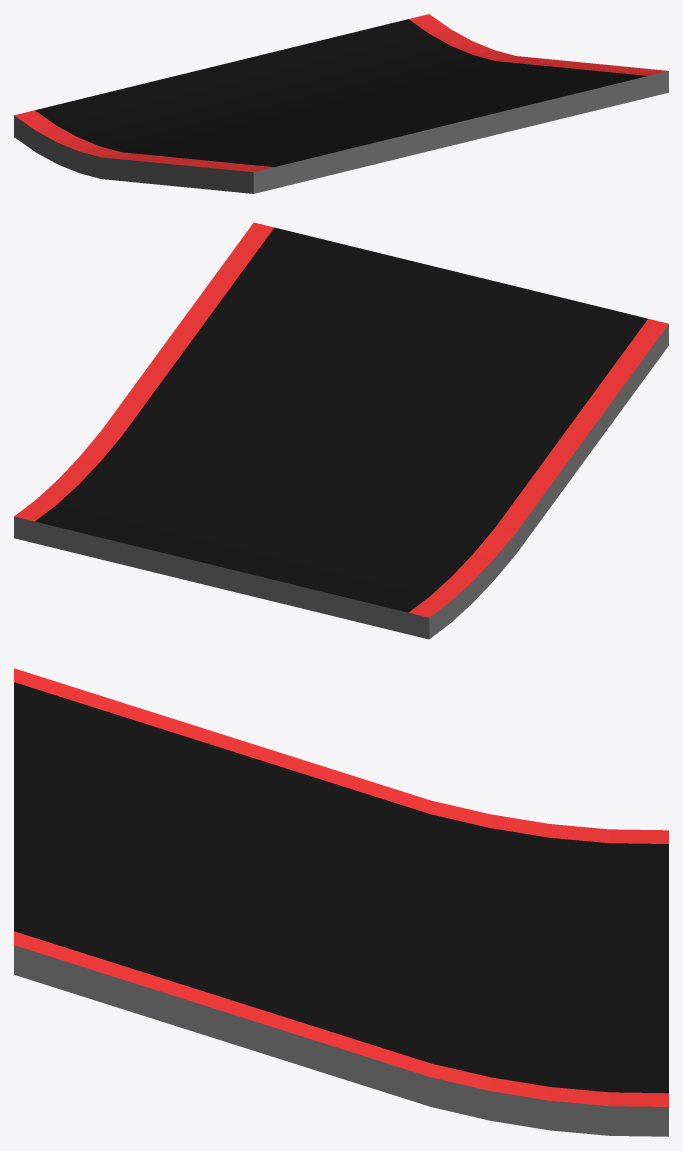
The model's file is Streckenmodul_-_Rampe_Flach_Unten.fbx.
3 views of the same model, one above another, from view 1: azimuth 30°, elevation 25°; view 2: azimuth 150°, elevation 25°; view 3: azimuth 270°, elevation 25° (orthographic). The views are drawn at different scales.
Visible parts, largest first — view 1: Streckenmodul - Rampe_Flach_Unten; view 2: Streckenmodul - Rampe_Flach_Unten; view 3: Streckenmodul - Rampe_Flach_Unten.
Part boxes in pixels (<box>): Streckenmodul - Rampe_Flach_Unten: <box>14,14,668,193</box>; Streckenmodul - Rampe_Flach_Unten: <box>14,222,668,639</box>; Streckenmodul - Rampe_Flach_Unten: <box>14,668,668,1136</box>.
Size of the model in its own units: 394 by 127 by 394.
